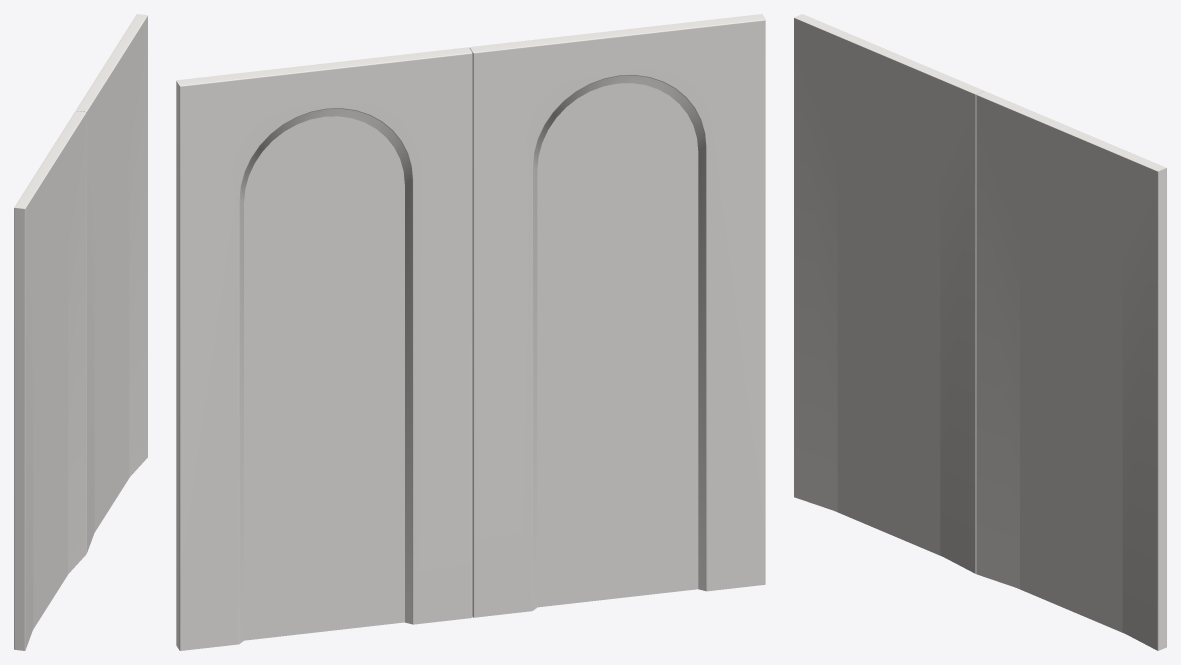
File: tvtable_0202_door.glb
3 renders of one model, left to right at view 1: azimuth 30°, elevation 25°; view 2: azimuth 150°, elevation 25°; view 3: azimuth 270°, elevation 25°, orthographic. The views are drawn at different scales.
Visible parts, largest first — view 1: tvtable_0202_door; view 2: tvtable_0202_door; view 3: tvtable_0202_door.
Part boxes in pixels (x1,y1,x2,y2): tvtable_0202_door: (14, 14, 147, 650); tvtable_0202_door: (176, 14, 765, 650); tvtable_0202_door: (794, 14, 1166, 650).
Size of the model in its own units: 0.5793 by 0.823 by 0.5793.
1 material, 1 textured.
